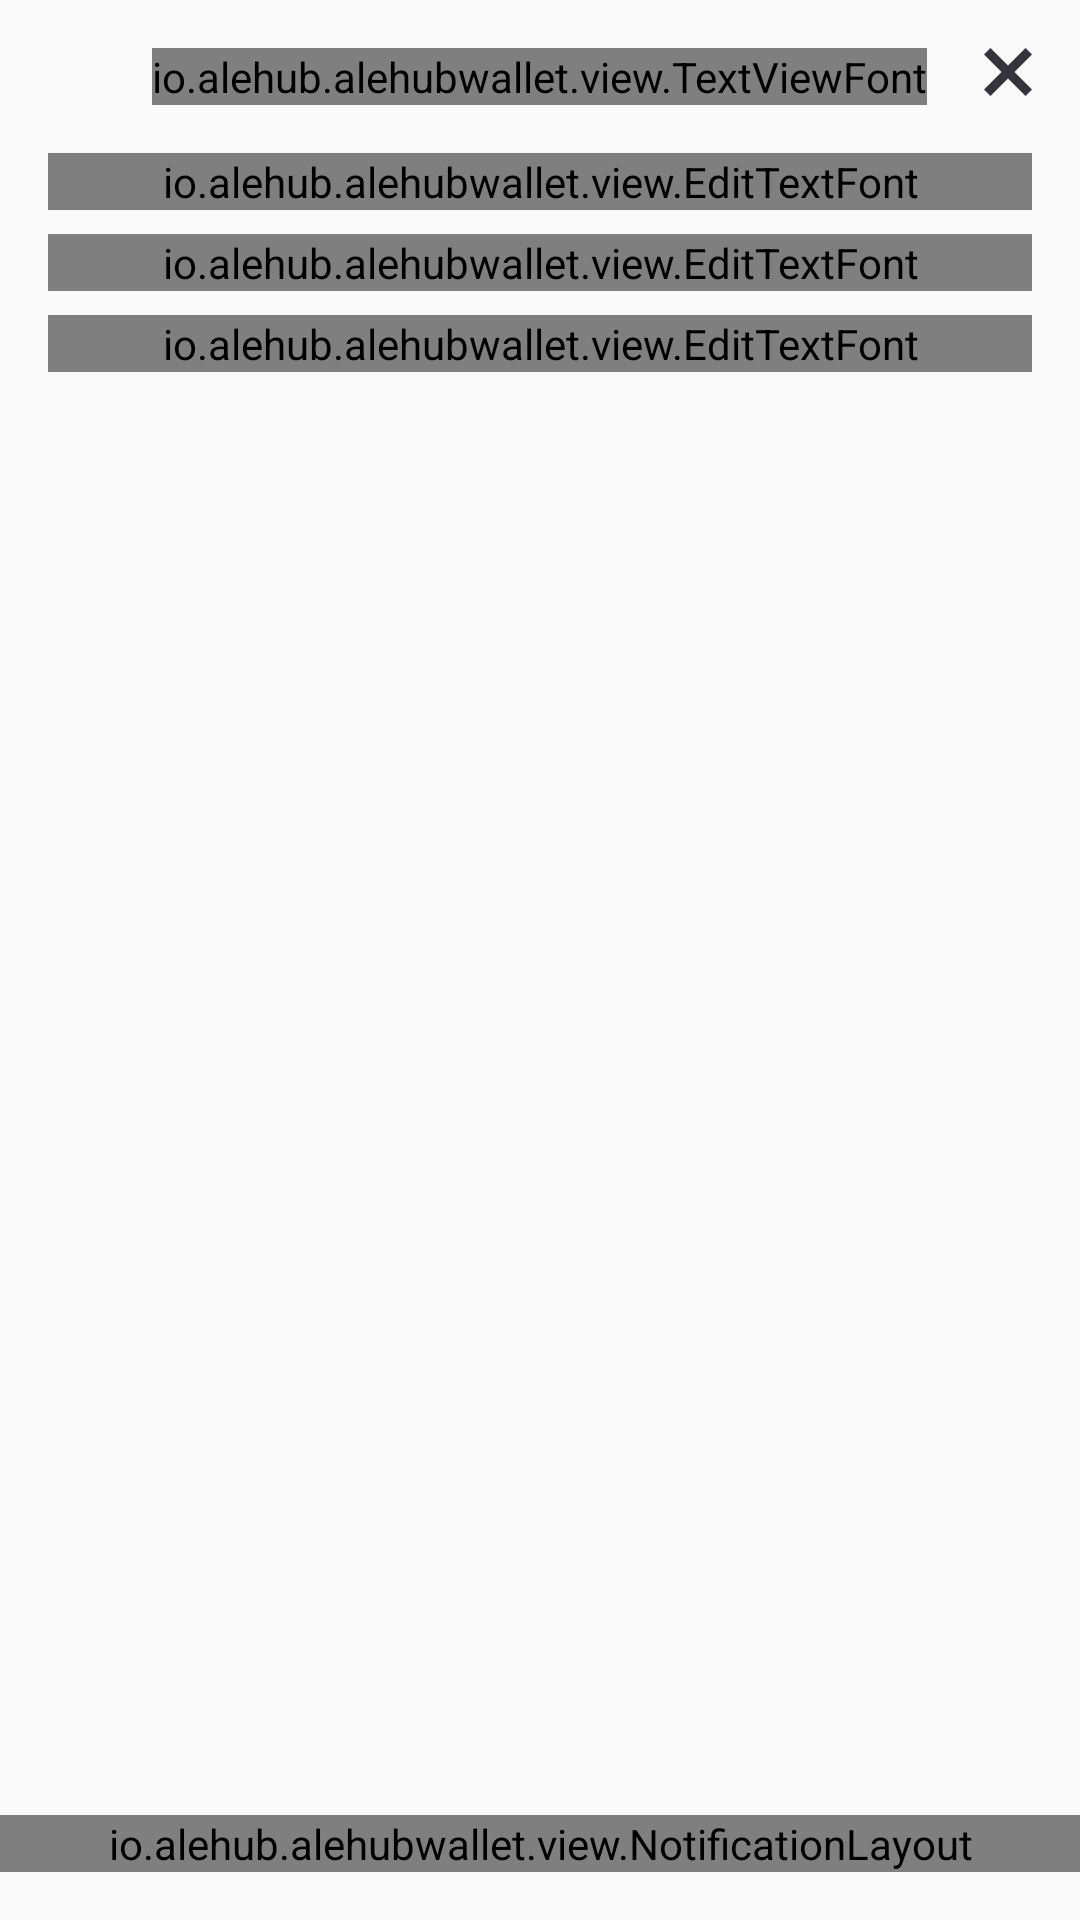

Named icons in this screenshot (1080w x 1920h) and their bounding boxes, (x1, y1, x2, y2):
close cross: (984, 48, 1032, 96)
